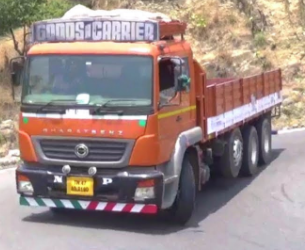truck: (8, 5, 285, 230)
